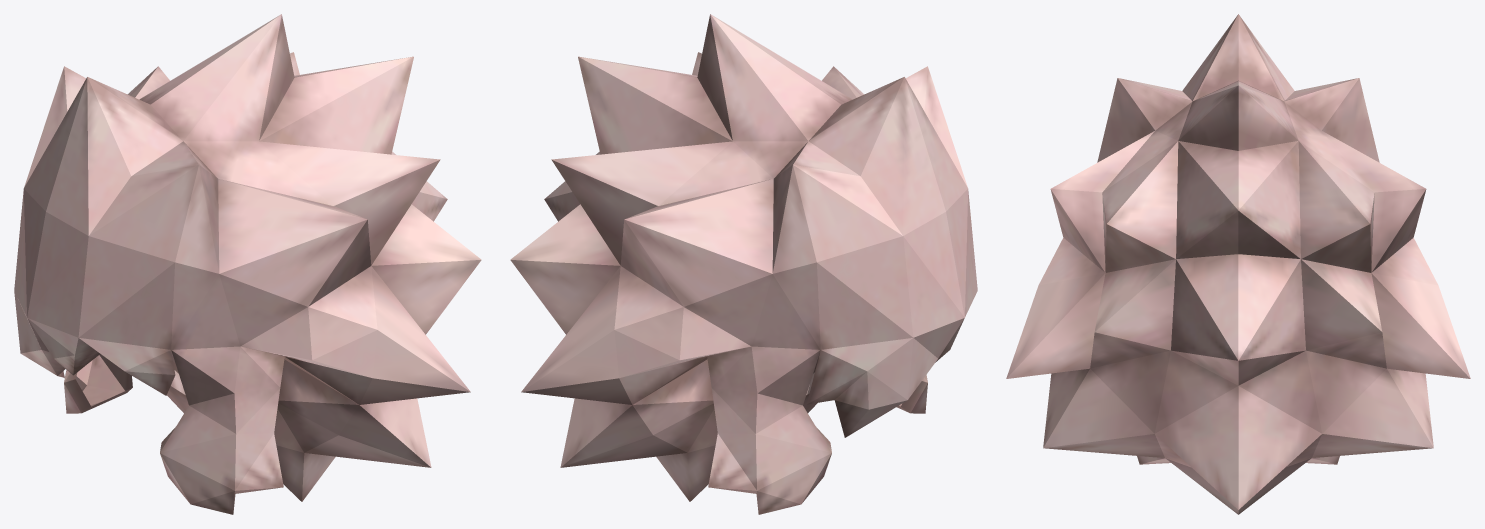
File: Monkey_mosolyWig.obj
3 renders of one model, left to right at view 1: azimuth 30°, elevation 25°; view 2: azimuth 150°, elevation 25°; view 3: azimuth 270°, elevation 25°, orthographic. The views are drawn at different scales.
Visible parts, largest first — view 1: Monkey_mosolyWig_tri; view 2: Monkey_mosolyWig_tri; view 3: Monkey_mosolyWig_tri.
Part boxes in pixels (bbox=[...]): Monkey_mosolyWig_tri: bbox=[14, 14, 481, 514]; Monkey_mosolyWig_tri: bbox=[510, 14, 977, 514]; Monkey_mosolyWig_tri: bbox=[1006, 14, 1470, 514].
Size of the model in its own units: 0.4033 by 0.4334 by 0.43.
Materials: 1 (1 with a texture image).
